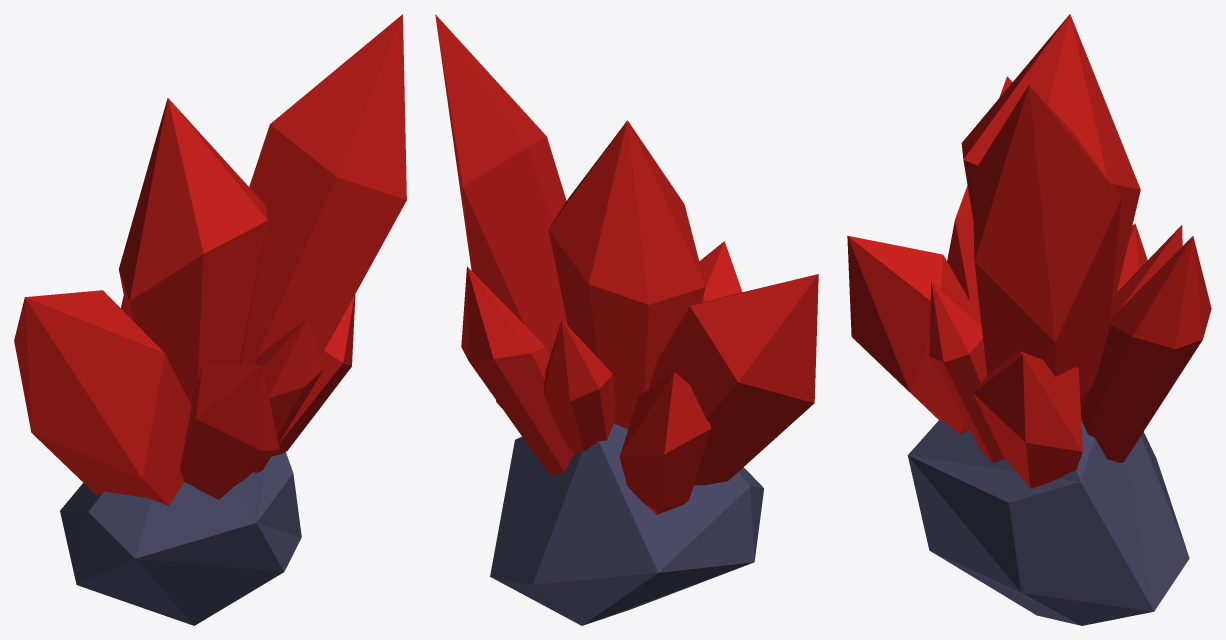
The model's file is CystalLarge1.fbx.
3 renders of one model, left to right at view 1: azimuth 30°, elevation 25°; view 2: azimuth 150°, elevation 25°; view 3: azimuth 270°, elevation 25°, orthographic. The views are drawn at different scales.
Parts seen in each view (by area): view 1: Spindle003; view 2: Spindle003; view 3: Spindle003.
Part boxes in pixels (x1,y1,x2,y2): Spindle003: (14, 14, 406, 625); Spindle003: (435, 14, 818, 625); Spindle003: (847, 14, 1211, 625).
Bounding box in the file's own units: 31.36 × 22.33 × 43.63.
